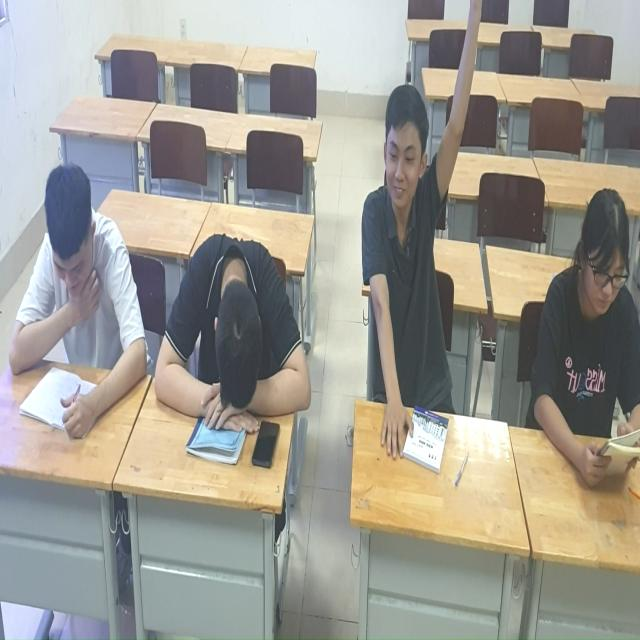raise_hand: (361, 1, 486, 478)
read: (6, 156, 156, 461), (526, 204, 640, 509)
sleep: (159, 223, 316, 448)
